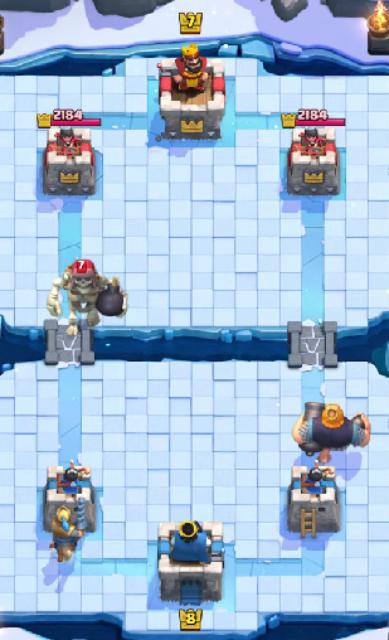ally_melee: (294, 400, 372, 468), (50, 499, 91, 564)
enemy_melee: (45, 258, 129, 333)
